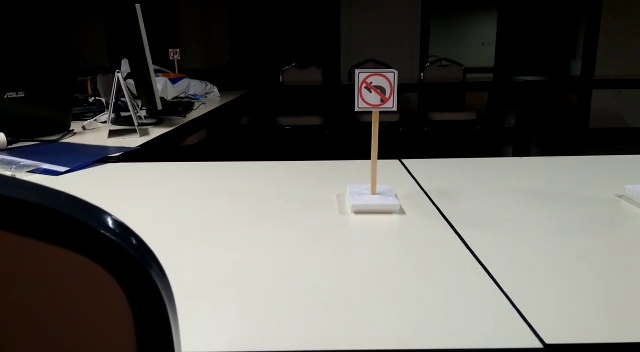sola_donulmez: (355, 68, 397, 113)
